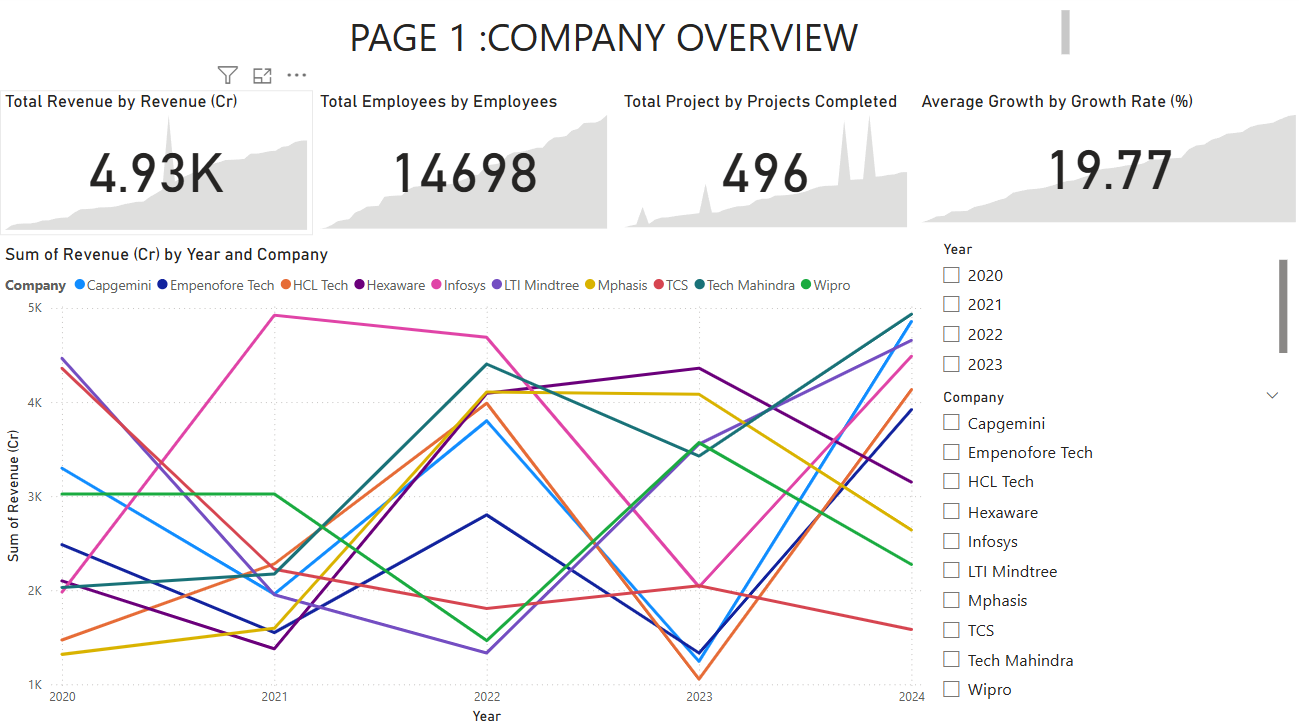

What the dashboard file says about the page in this screenshot:
{"tool":"powerbi","page":{"name":"Page 1","canvas":[1280,720],"ordinal":0},"visuals":[{"type":"kpi","fields":{"Indicator":["Sheet1.Total Revenue"],"TrendLine":["Sheet1.Revenue (Cr)"]},"box":[4.9,94.2,305.7,141.8],"z":0},{"type":"kpi","fields":{"Indicator":["Sheet1.Total Employees"],"TrendLine":["Sheet1.Employees"]},"box":[313,94.2,291,140.6],"z":1000},{"type":"kpi","fields":{"Indicator":["Sheet1.Total Project"],"TrendLine":["Sheet1.Projects Completed"]},"box":[610.2,94.2,287.4,139.4],"z":2000},{"type":"kpi","fields":{"Indicator":["Sheet1.Average Growth"],"TrendLine":["Sheet1.Growth Rate (%)"]},"box":[901.2,94.2,376.6,134.5],"z":3000},{"type":"lineChart","fields":{"Series":["Sheet1.Company"],"Category":["Sheet1.Year"],"Y":["Sum(Sheet1.Revenue (Cr))"]},"box":[4.9,244.6,909.8,474.5],"z":4000},{"type":"slicer","fields":{"Values":["Sheet1.Year"]},"box":[914.7,236,354.6,144.3],"z":5000},{"type":"slicer","fields":{"Values":["Sheet1.Company"]},"box":[915.3,380.1,354,322.5],"z":6000},{"type":"textbox","box":[152.9,11,903.7,56.3],"z":7000}]}

Visuals, with their boxes in screenshot pixels (x1, y1, x2, y2), scaled from the page's 1280x720 canvas onto the 1299x724 screenshot:
kpi - Sheet1.Total Revenue x Sheet1.Revenue (Cr): 5, 95, 315, 237
kpi - Sheet1.Total Employees x Sheet1.Employees: 318, 95, 613, 236
kpi - Sheet1.Total Project x Sheet1.Projects Completed: 619, 95, 911, 235
kpi - Sheet1.Average Growth x Sheet1.Growth Rate (%): 915, 95, 1297, 230
lineChart - Sheet1.Company x Sheet1.Year: 5, 246, 928, 723
slicer - Sheet1.Year: 928, 237, 1288, 382
slicer - Sheet1.Company: 929, 382, 1288, 707
textbox: 155, 11, 1072, 68
